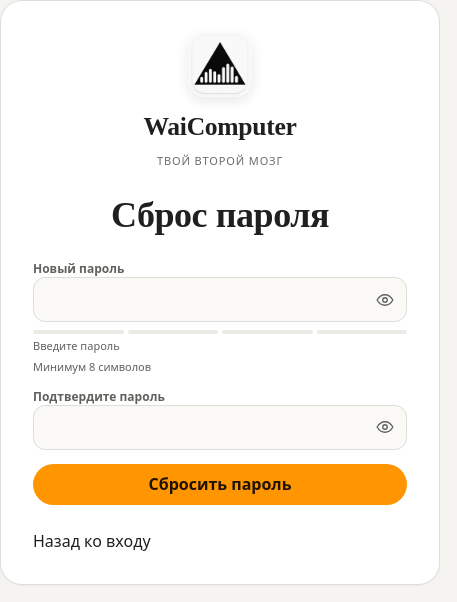
Test: ResetPasswordClient › posts reset token and localized password to the API
Type "password123" into the password field with test id "reset-password" at {"x": 220, "y": 300}, box [33,277,407,322]
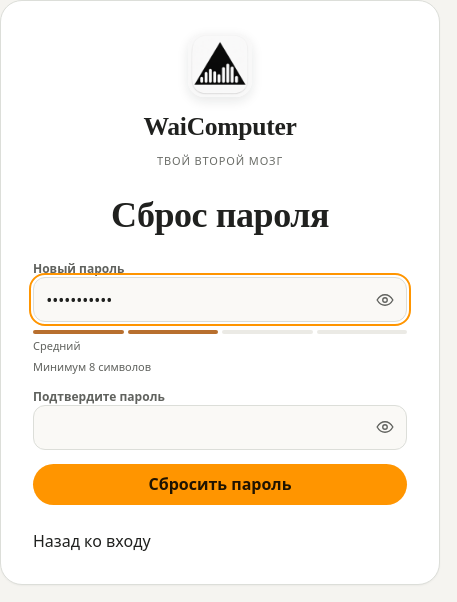
Type "password123" into the password field with test id "reset-password-confirm" at {"x": 220, "y": 427}, box [33,404,407,450]
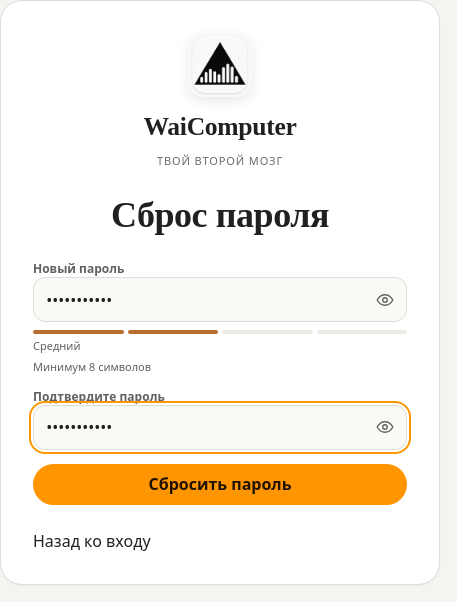
Click the button with test id "reset-password-submit" at {"x": 220, "y": 484}, box [33,464,407,505]
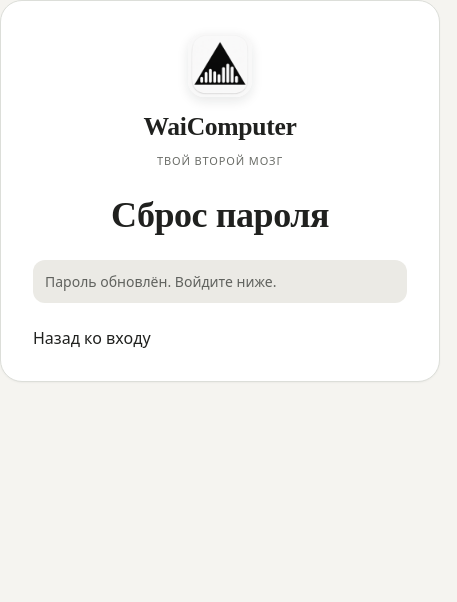
Result: the message with test id "reset-password-message" reads "Пароль обновлён. Войдите ниже." at [45,272,276,291]
